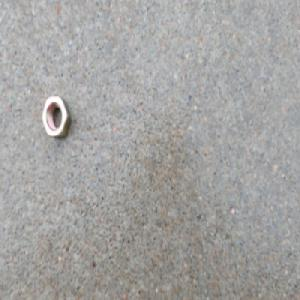Nut: (38, 93, 70, 142)
